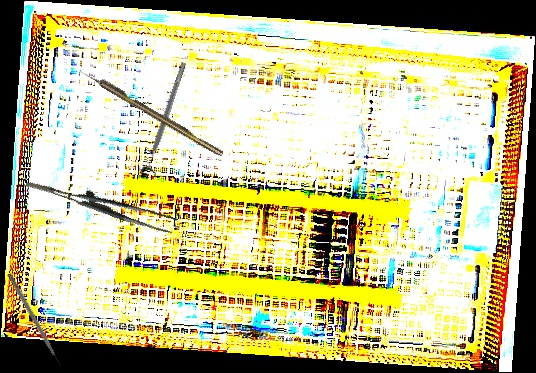Fixation Ring: (139, 60, 193, 178)
Hook Surgical: (77, 65, 225, 159), (6, 272, 65, 372)
Tissue Forceps: (25, 157, 178, 248)
